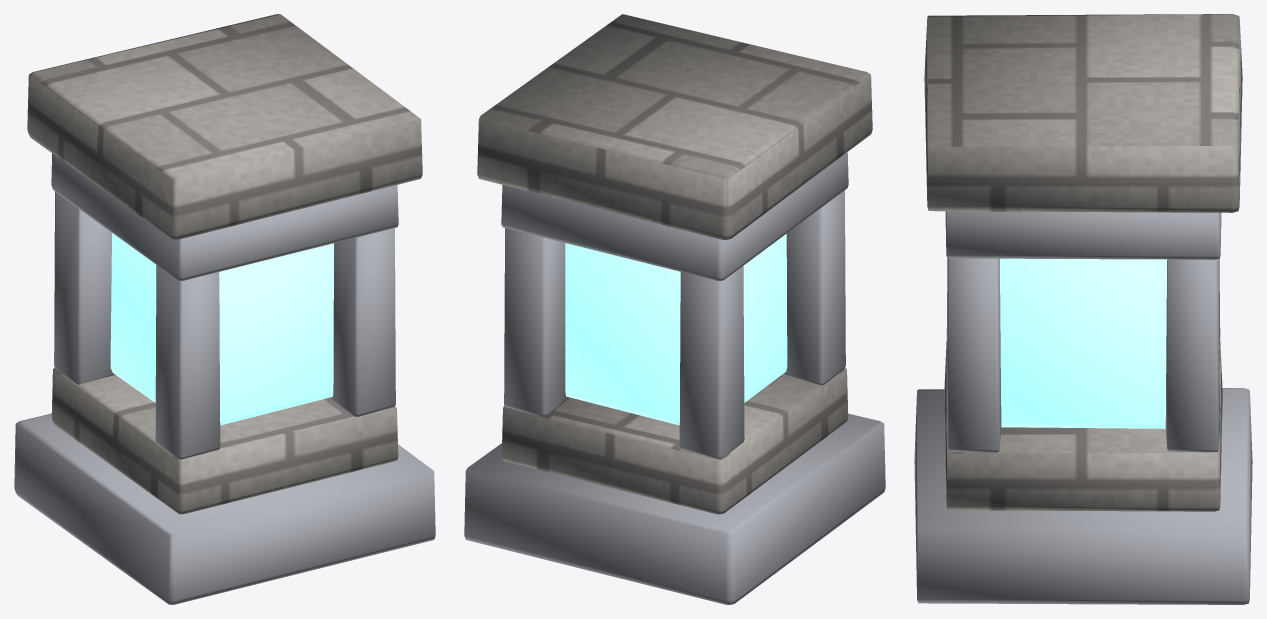
The model's file is OBJ27_cyan_beacon_pillar.glb.
3 renders of one model, left to right at view 1: azimuth 30°, elevation 25°; view 2: azimuth 150°, elevation 25°; view 3: azimuth 270°, elevation 25°, orthographic. The views are drawn at different scales.
Visible parts, largest first — view 1: TopCap, BasePlinth, BaseStep, CyanCore, TopNeck, CornerStrut_-2_2, CornerStrut_2_2, CornerStrut_-2_-2; view 2: TopCap, BasePlinth, BaseStep, CyanCore, TopNeck, CornerStrut_-2_-2, CornerStrut_2_-2, CornerStrut_-2_2; view 3: TopCap, BasePlinth, CyanCore, BaseStep, TopNeck, CornerStrut_2_2, CornerStrut_2_-2.
Boxes of the visible parts, left/top/right/bottom form: TopCap: left=27, top=14, right=422, bottom=239; BasePlinth: left=14, top=413, right=435, bottom=604; BaseStep: left=51, top=368, right=398, bottom=514; CyanCore: left=110, top=233, right=333, bottom=425; TopNeck: left=51, top=153, right=398, bottom=280; CornerStrut_-2_2: left=155, top=265, right=220, bottom=459; CornerStrut_2_2: left=331, top=228, right=395, bottom=416; CornerStrut_-2_-2: left=54, top=192, right=115, bottom=384; TopCap: left=477, top=14, right=872, bottom=239; BasePlinth: left=464, top=413, right=885, bottom=604; BaseStep: left=501, top=368, right=848, bottom=514; CyanCore: left=565, top=234, right=787, bottom=425; TopNeck: left=501, top=152, right=848, bottom=280; CornerStrut_-2_-2: left=679, top=266, right=744, bottom=459; CornerStrut_2_-2: left=504, top=228, right=568, bottom=416; CornerStrut_-2_2: left=782, top=190, right=845, bottom=385; TopCap: left=924, top=14, right=1242, bottom=212; BasePlinth: left=914, top=388, right=1252, bottom=604; CyanCore: left=1000, top=258, right=1167, bottom=428; BaseStep: left=944, top=339, right=1222, bottom=511; TopNeck: left=945, top=211, right=1221, bottom=259; CornerStrut_2_2: left=946, top=258, right=1001, bottom=452; CornerStrut_2_-2: left=1165, top=259, right=1220, bottom=451.
Size of the model in its own units: 0.68 by 1.02 by 0.68.
3 materials, 1 textured.
